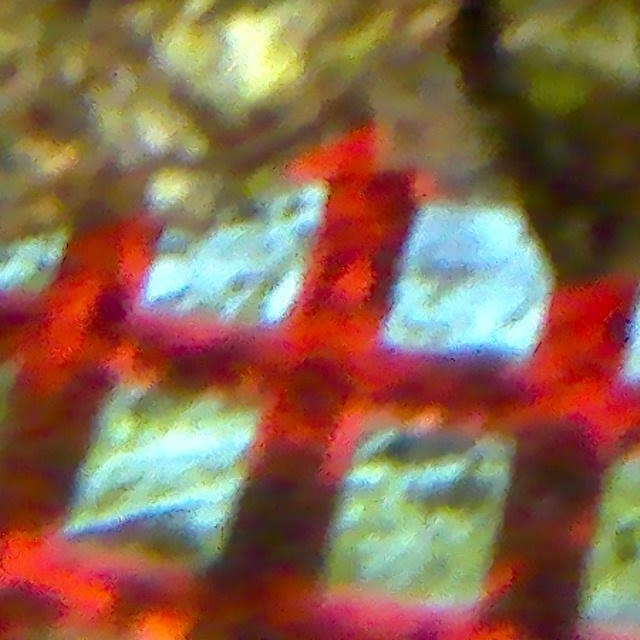SeaGrape: (593, 140, 640, 191)
